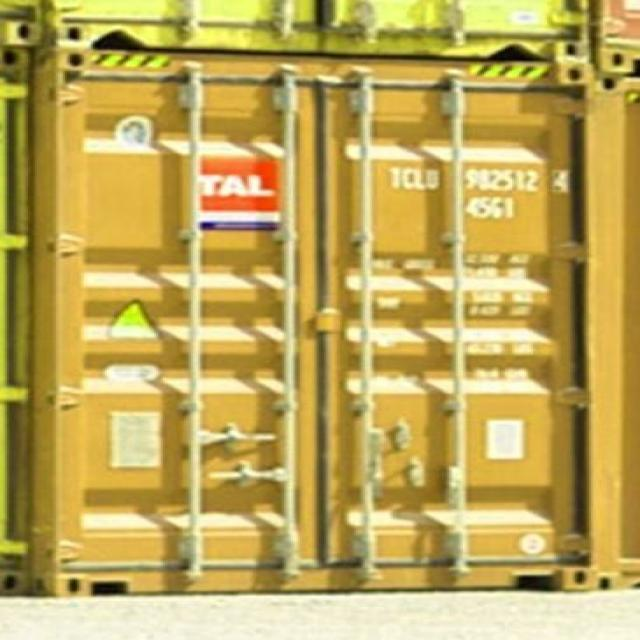ISO: (464, 198, 520, 222)
container_number: (393, 169, 565, 198)
